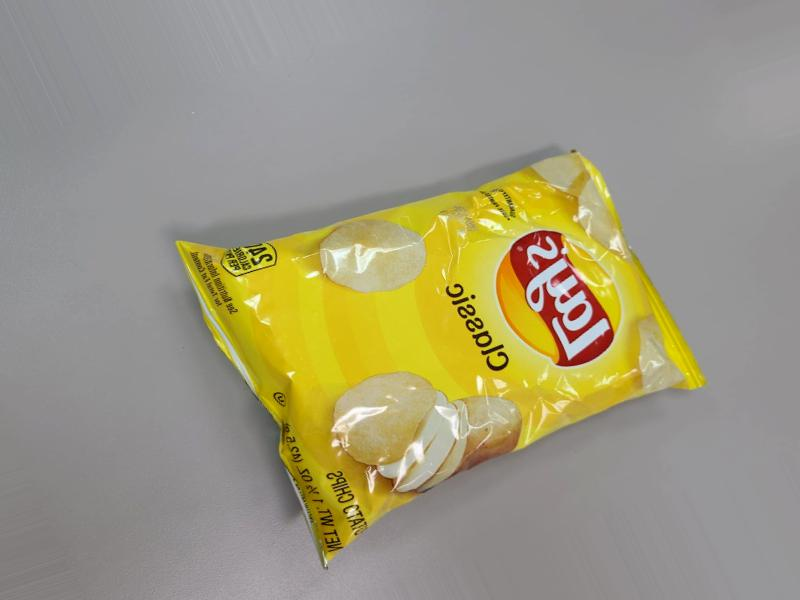lays: (329, 176, 761, 600)
